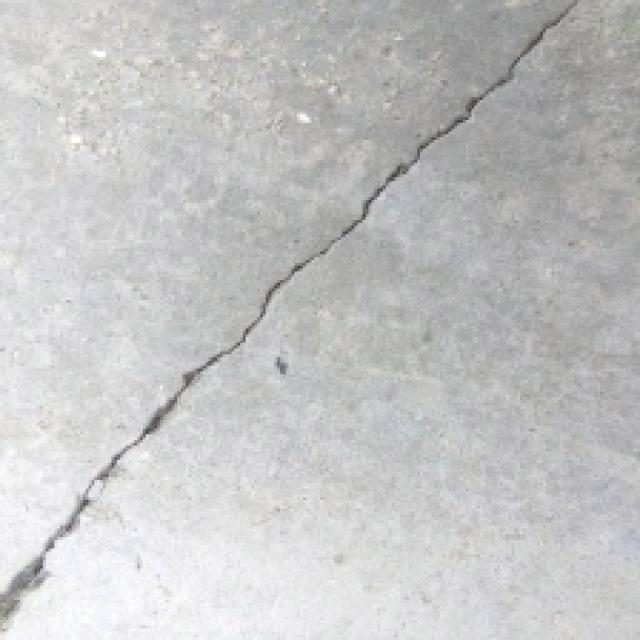SurfaceCrack: (0, 6, 604, 610)
